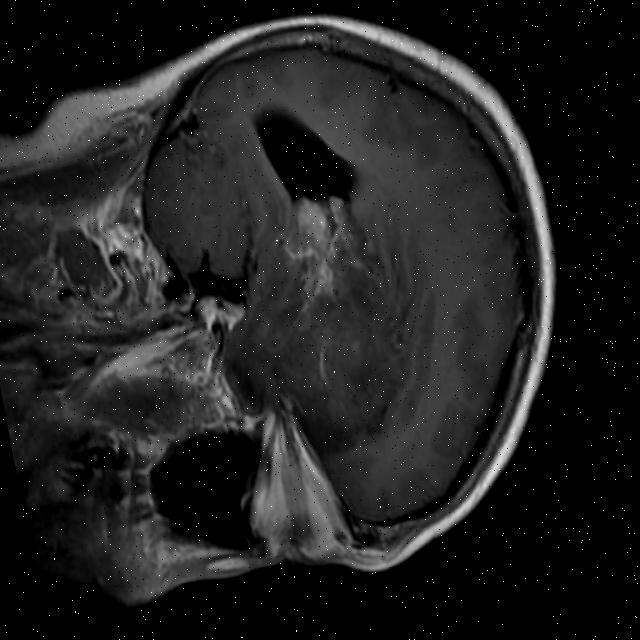Glioma: (243, 181, 395, 360)
